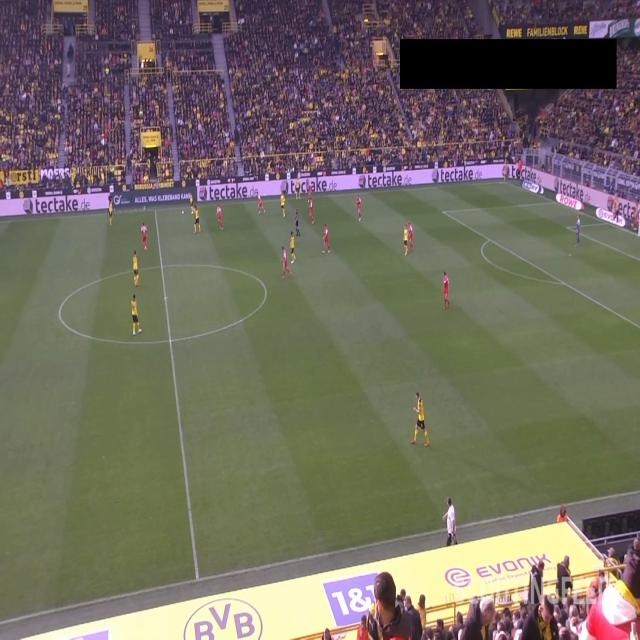ball: (181, 208, 185, 216)
